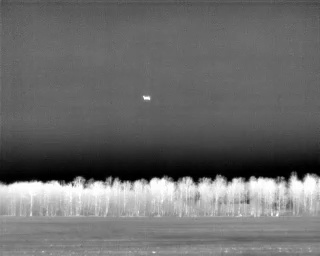DRONE: (139, 91, 154, 104)
